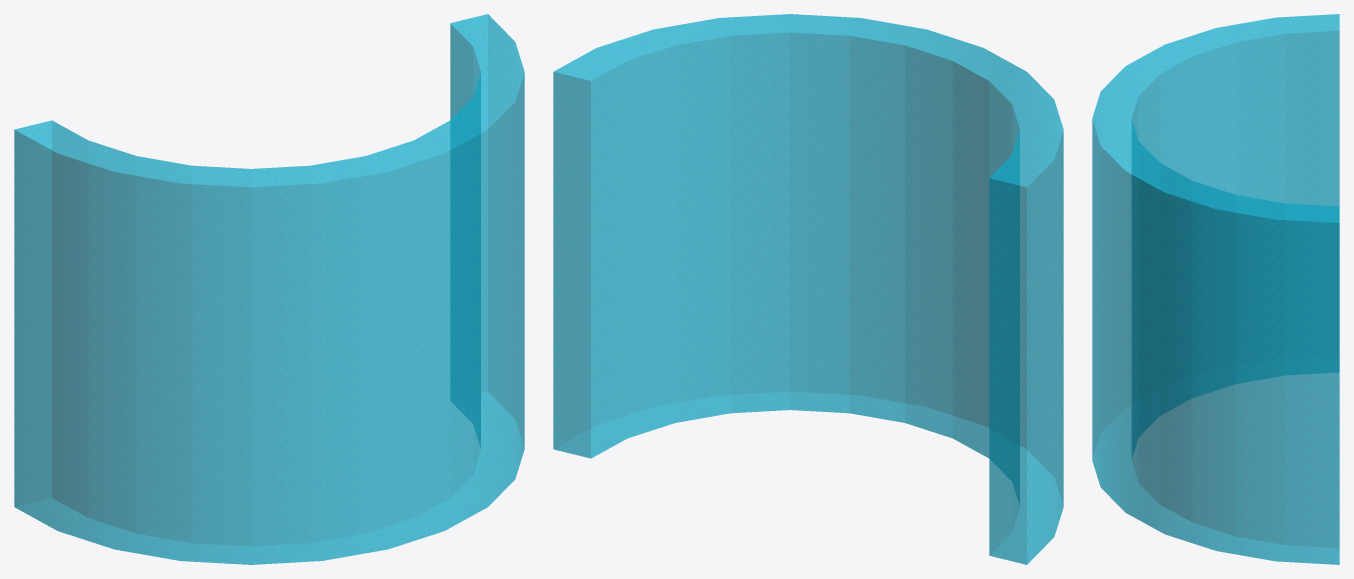
Rendered from wall2.fbx.
The picture shows the model from 3 angles, left to right: view 1: azimuth 30°, elevation 25°; view 2: azimuth 150°, elevation 25°; view 3: azimuth 270°, elevation 25°; orthographic projection. The views are drawn at different scales.
Parts seen in each view (by area): view 1: Model; view 2: Model; view 3: Model.
Boxes of the visible parts, x1=… form: Model: x1=14, y1=14, x2=524, y2=564; Model: x1=553, y1=14, x2=1063, y2=564; Model: x1=1092, y1=14, x2=1339, y2=564.
Size of the model in its own units: 335 by 255 by 168.
